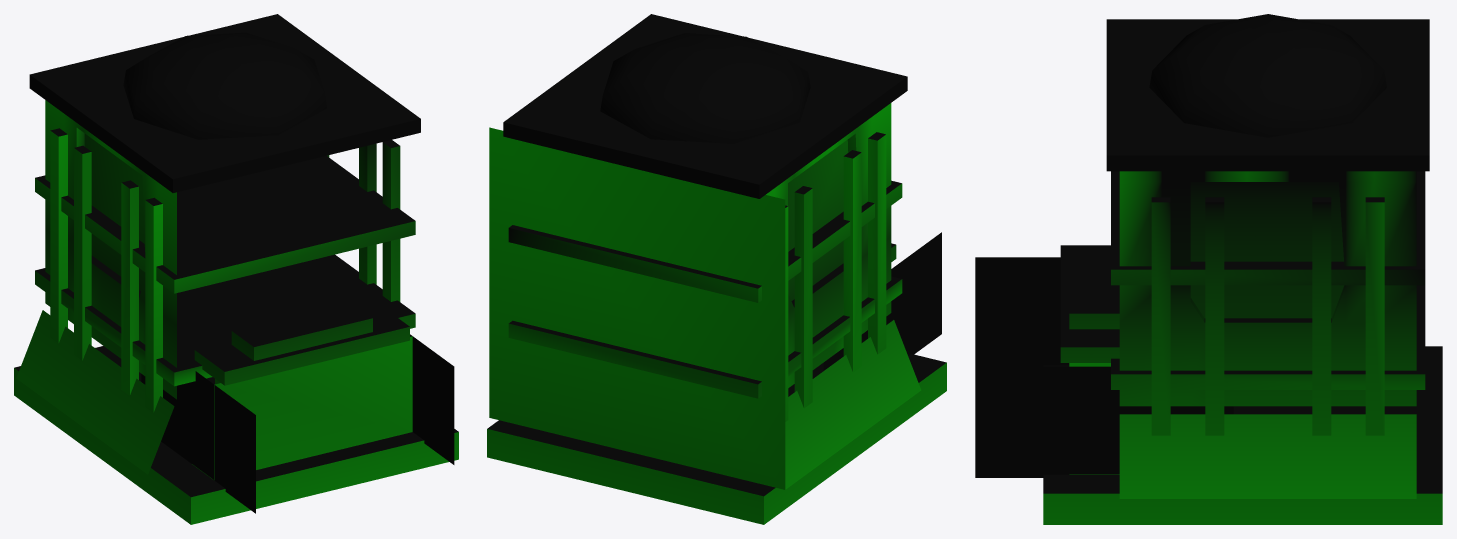
File: d_lightpost.glb
The picture shows the model from 3 angles, left to right: view 1: azimuth 30°, elevation 25°; view 2: azimuth 150°, elevation 25°; view 3: azimuth 270°, elevation 25°; orthographic projection. The views are drawn at different scales.
Visible parts, largest first — view 1: lod0; view 2: lod0; view 3: lod0.
Part boxes in pixels (box(x1,y1,x2,y2)): lod0: box(14, 14, 458, 524); lod0: box(487, 14, 946, 524); lod0: box(975, 14, 1442, 524).
Size of what is drawn, in the model's own units: 4.33 by 5.36 by 5.43.
